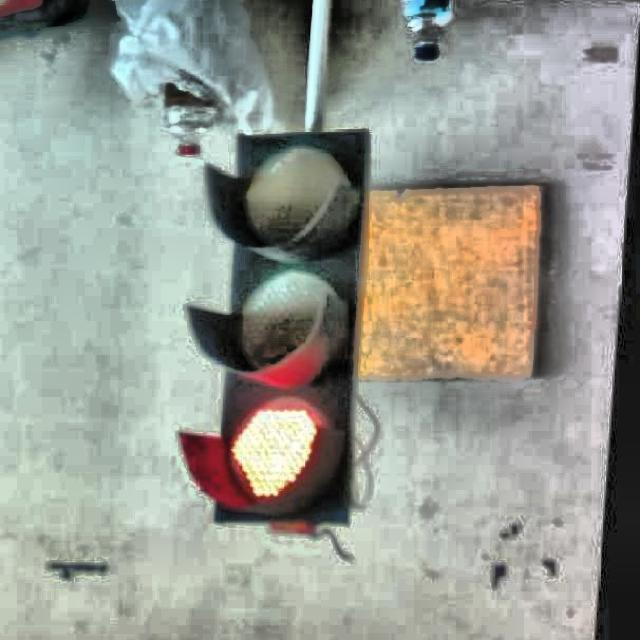red: (194, 127, 376, 530)
